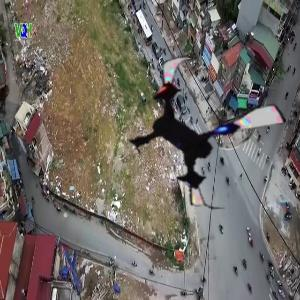drone: (121, 48, 288, 215)
